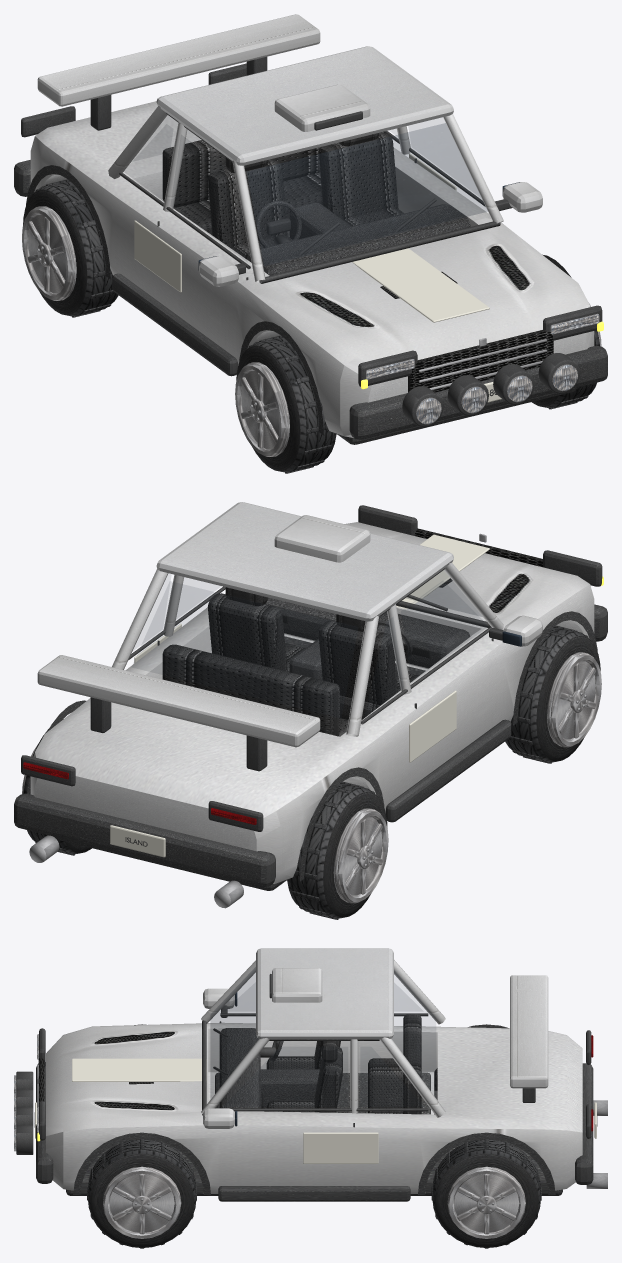
Rendered from rally.glb.
3 views of the same model, one above another, from view 1: azimuth 30°, elevation 25°; view 2: azimuth 150°, elevation 25°; view 3: azimuth 270°, elevation 25° (orthographic). The views are drawn at different scales.
Parts seen in each view (by area): view 1: BodyPaint_rallyParts, BodyPaint_rally_HoodParts, TrimParts.001, GlassParts.001, BodyPaint_rally_RoofParts, SeatLeatherParts.001, BodyPaint_rally_DoorParts, DashboardVinylParts.001, WarmIvoryParts.001, PerforatedGrilleParts.001, TireTreadRubberParts.004, TireTreadRubberParts.006 (+9 smaller); view 2: BodyPaint_rallyParts, TrimParts.001, SeatLeatherParts.001, BodyPaint_rally_RoofParts, BodyPaint_rally_DoorParts, BodyPaint_rally_HoodParts, WarmIvoryParts.001, DashboardVinylParts.001, TireTreadRubberParts.006, TireTreadRubberParts.004, GlassParts.001, PolishedRimParts.004 (+8 smaller); view 3: BodyPaint_rallyParts, BodyPaint_rally_DoorParts, TrimParts.001, BodyPaint_rally_HoodParts, BodyPaint_rally_RoofParts, SeatLeatherParts.001, WarmIvoryParts.001, DashboardVinylParts.001, GlassParts.001, TireParts.005, TireParts.007, ForgedGraphiteParts.005 (+6 smaller).
Part boxes in pixels (bbox=[...]): BodyPaint_rallyParts: bbox=[35, 14, 587, 437]; BodyPaint_rally_HoodParts: bbox=[240, 218, 589, 373]; TrimParts.001: bbox=[14, 56, 607, 444]; GlassParts.001: bbox=[132, 123, 487, 265]; BodyPaint_rally_RoofParts: bbox=[156, 46, 453, 165]; SeatLeatherParts.001: bbox=[162, 132, 404, 257]; BodyPaint_rally_DoorParts: bbox=[30, 136, 594, 435]; DashboardVinylParts.001: bbox=[245, 200, 470, 275]; WarmIvoryParts.001: bbox=[134, 153, 501, 402]; PerforatedGrilleParts.001: bbox=[408, 329, 553, 392]; TireTreadRubberParts.004: bbox=[248, 335, 336, 473]; TireTreadRubberParts.006: bbox=[34, 179, 118, 317]; BodyPaint_rallyParts: bbox=[35, 515, 583, 883]; TrimParts.001: bbox=[14, 505, 607, 890]; SeatLeatherParts.001: bbox=[162, 587, 419, 736]; BodyPaint_rally_RoofParts: bbox=[156, 502, 453, 621]; BodyPaint_rally_DoorParts: bbox=[30, 584, 594, 882]; BodyPaint_rally_HoodParts: bbox=[344, 522, 589, 645]; WarmIvoryParts.001: bbox=[110, 534, 489, 857]; DashboardVinylParts.001: bbox=[265, 597, 470, 680]; TireTreadRubberParts.006: bbox=[287, 781, 374, 919]; TireTreadRubberParts.004: bbox=[505, 625, 588, 763]; GlassParts.001: bbox=[141, 570, 482, 644]; PolishedRimParts.004: bbox=[550, 653, 601, 747]; BodyPaint_rallyParts: bbox=[201, 960, 582, 1193]; BodyPaint_rally_DoorParts: bbox=[46, 1028, 582, 1193]; TrimParts.001: bbox=[16, 974, 597, 1201]; BodyPaint_rally_HoodParts: bbox=[46, 1023, 221, 1135]; BodyPaint_rally_RoofParts: bbox=[256, 948, 393, 1039]; SeatLeatherParts.001: bbox=[266, 1014, 421, 1114]; WarmIvoryParts.001: bbox=[35, 1058, 596, 1163]; DashboardVinylParts.001: bbox=[219, 1028, 319, 1111]; GlassParts.001: bbox=[210, 967, 423, 1098]; TireParts.005: bbox=[90, 1153, 194, 1247]; TireParts.007: bbox=[434, 1153, 538, 1247]; ForgedGraphiteParts.005: bbox=[103, 1166, 181, 1232].
Bounding box in the file's own units: 2.32 × 1.76 × 4.48.
20 materials, 18 textured.
